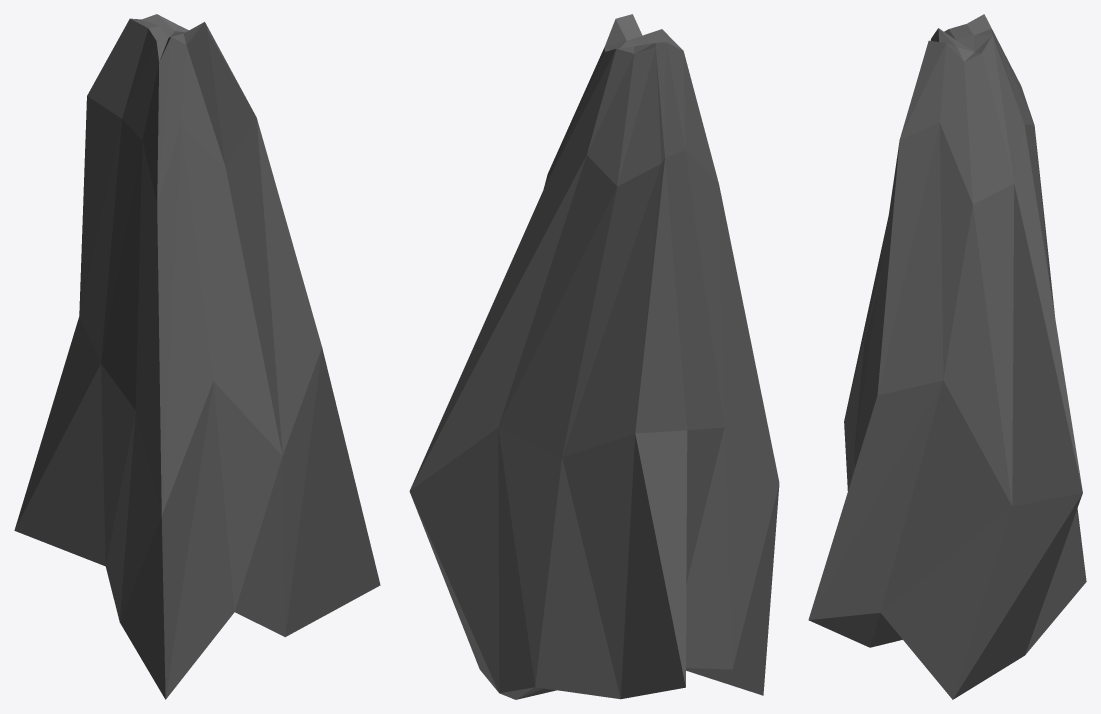
The model's file is Dest_Desert_Stone3.FBX.
The picture shows the model from 3 angles, left to right: view 1: azimuth 30°, elevation 25°; view 2: azimuth 150°, elevation 25°; view 3: azimuth 270°, elevation 25°; orthographic projection. The views are drawn at different scales.
Visible parts, largest first — view 1: Box001; view 2: Box001; view 3: Box001.
Boxes of the visible parts, box(x1,y1,x2,y2) form: Box001: box(14, 14, 380, 699); Box001: box(409, 14, 779, 699); Box001: box(808, 14, 1086, 699).
Size of the model in its own units: 12.84 by 31.2 by 12.84.
